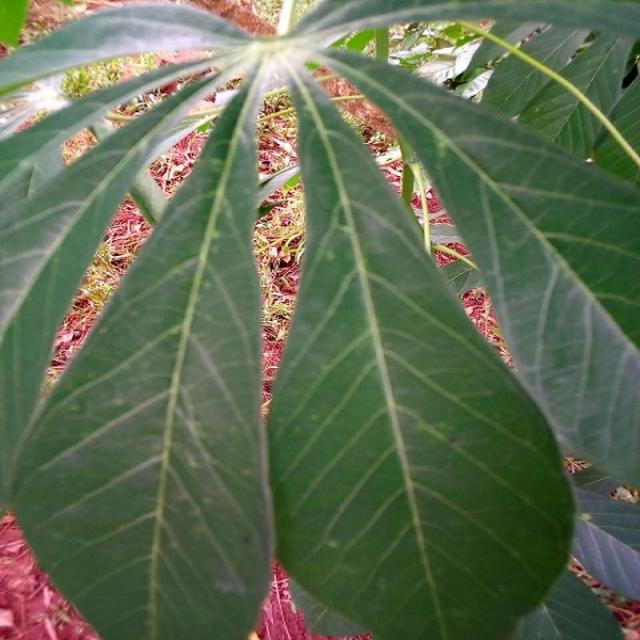cassava leaf: (1, 1, 638, 637), (264, 60, 578, 638), (9, 67, 274, 638)
